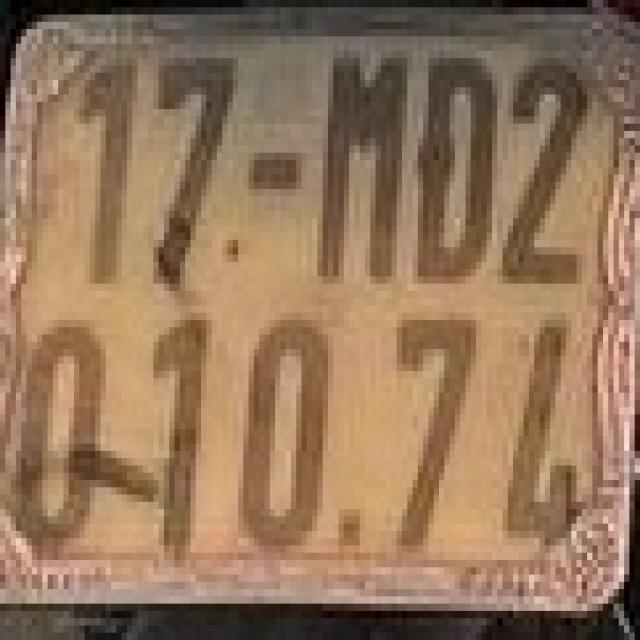0: (228, 305, 338, 553), (13, 316, 108, 556)
1: (137, 306, 217, 568), (69, 58, 143, 298)
2: (498, 44, 592, 292)
4: (492, 306, 592, 546)
7: (142, 44, 244, 292), (381, 305, 482, 553)
D: (418, 51, 498, 284)
M: (310, 44, 410, 284)
